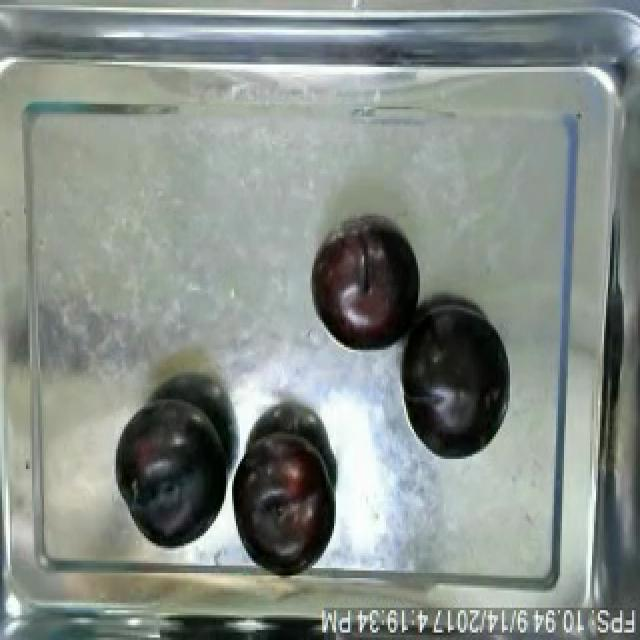Fruit: (392, 298, 514, 464), (116, 394, 238, 554), (306, 221, 426, 357), (230, 422, 340, 568)
